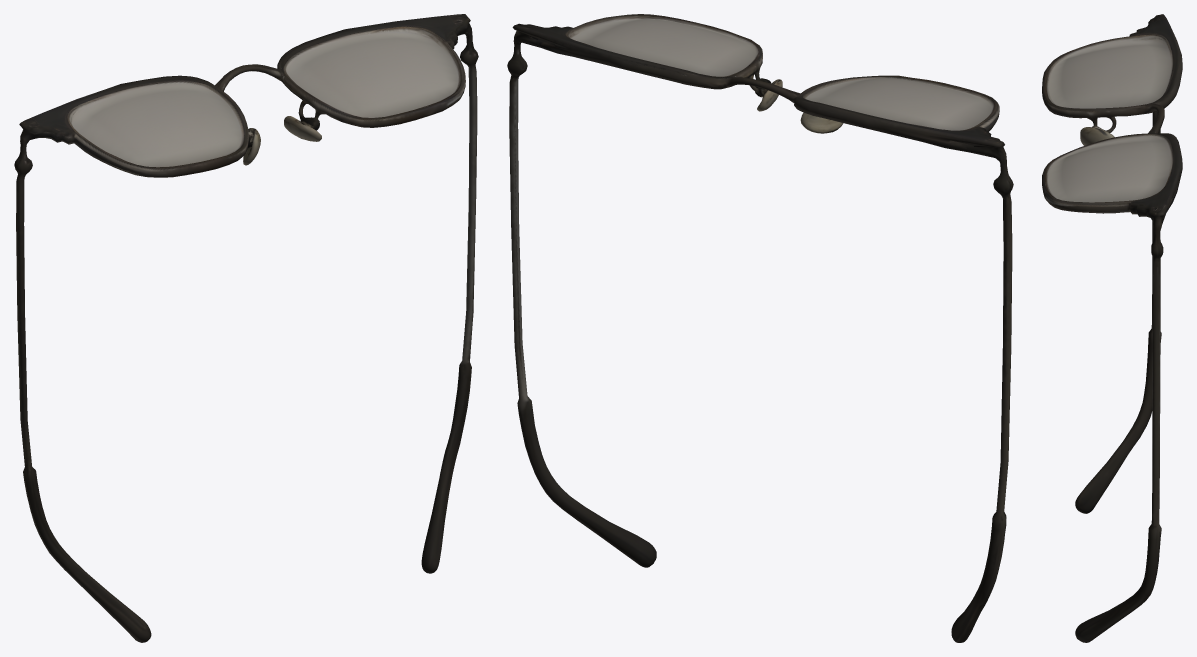
File: glasses.fbx
The picture shows the model from 3 angles, left to right: view 1: azimuth 30°, elevation 25°; view 2: azimuth 150°, elevation 25°; view 3: azimuth 270°, elevation 25°; orthographic projection. The views are drawn at different scales.
Visible parts, largest first — view 1: mesh_rep_0_ori_repair_quad; view 2: mesh_rep_0_ori_repair_quad; view 3: mesh_rep_0_ori_repair_quad.
Part boxes in pixels (x1,y1,x2,y2): mesh_rep_0_ori_repair_quad: [14, 14, 478, 642]; mesh_rep_0_ori_repair_quad: [507, 14, 1013, 642]; mesh_rep_0_ori_repair_quad: [1042, 14, 1182, 642].
Bounding box in the file's own units: 14.1 × 14.99 × 4.08.
Materials: 1 (1 with a texture image).
